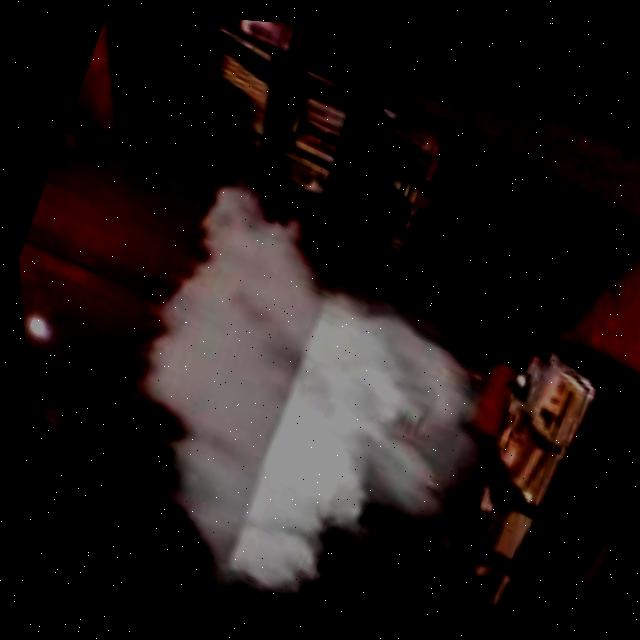Smoke: (27, 122, 571, 640)
